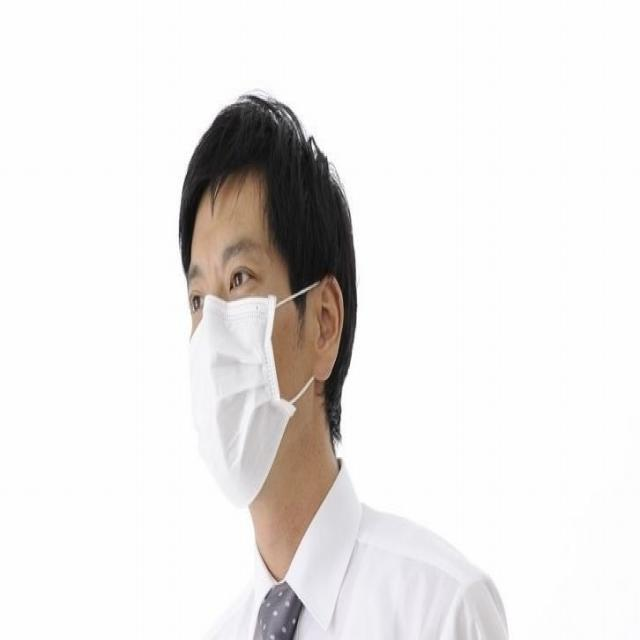mask: (180, 180, 296, 466)
